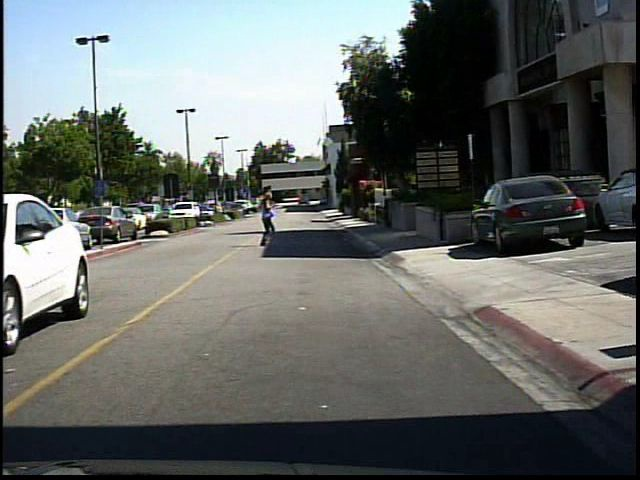person: (248, 186, 281, 250)
